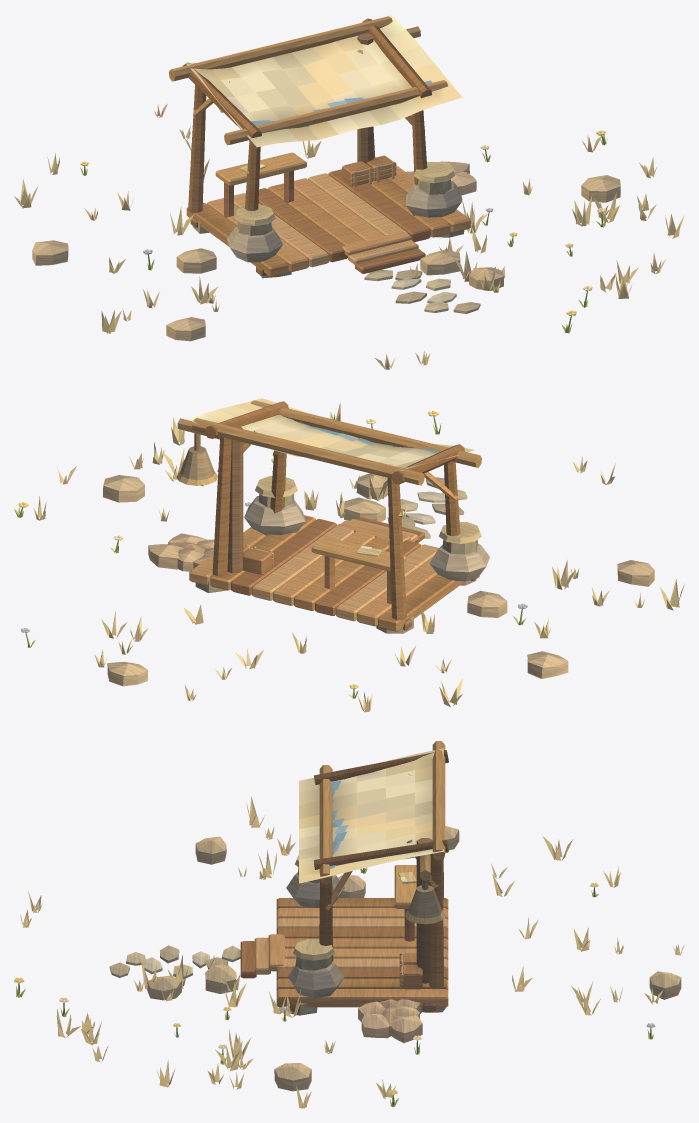
File: watch_tide.glb
3 views of the same model, one above another, from view 1: azimuth 30°, elevation 25°; view 2: azimuth 150°, elevation 25°; view 3: azimuth 270°, elevation 25° (orthographic). The views are drawn at different scales.
Visible parts, largest first — view 1: Wegwacht · tide; view 2: Wegwacht · tide; view 3: Wegwacht · tide.
Boxes of the visible parts, <box> form: Wegwacht · tide: <box>14,14,684,369</box>; Wegwacht · tide: <box>14,398,684,712</box>; Wegwacht · tide: <box>14,741,684,1108</box>.
Bounding box in the file's own units: 10.14 × 2.77 × 9.95.
4 materials, 3 textured.
